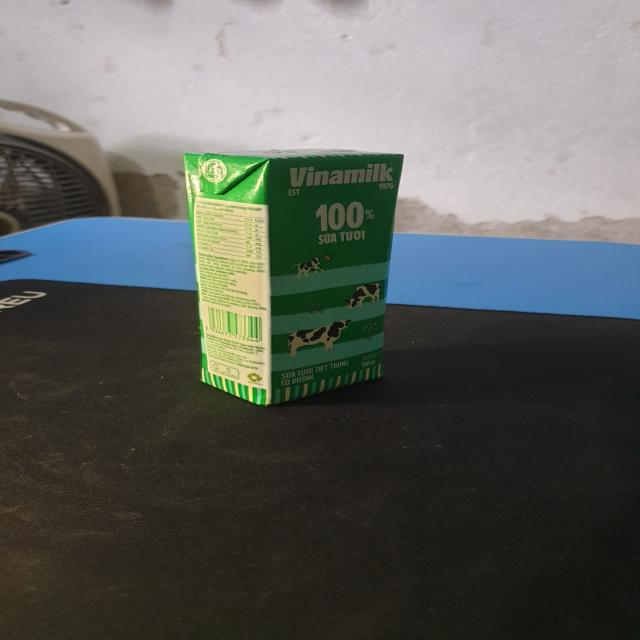Vina: (179, 148, 407, 411)
